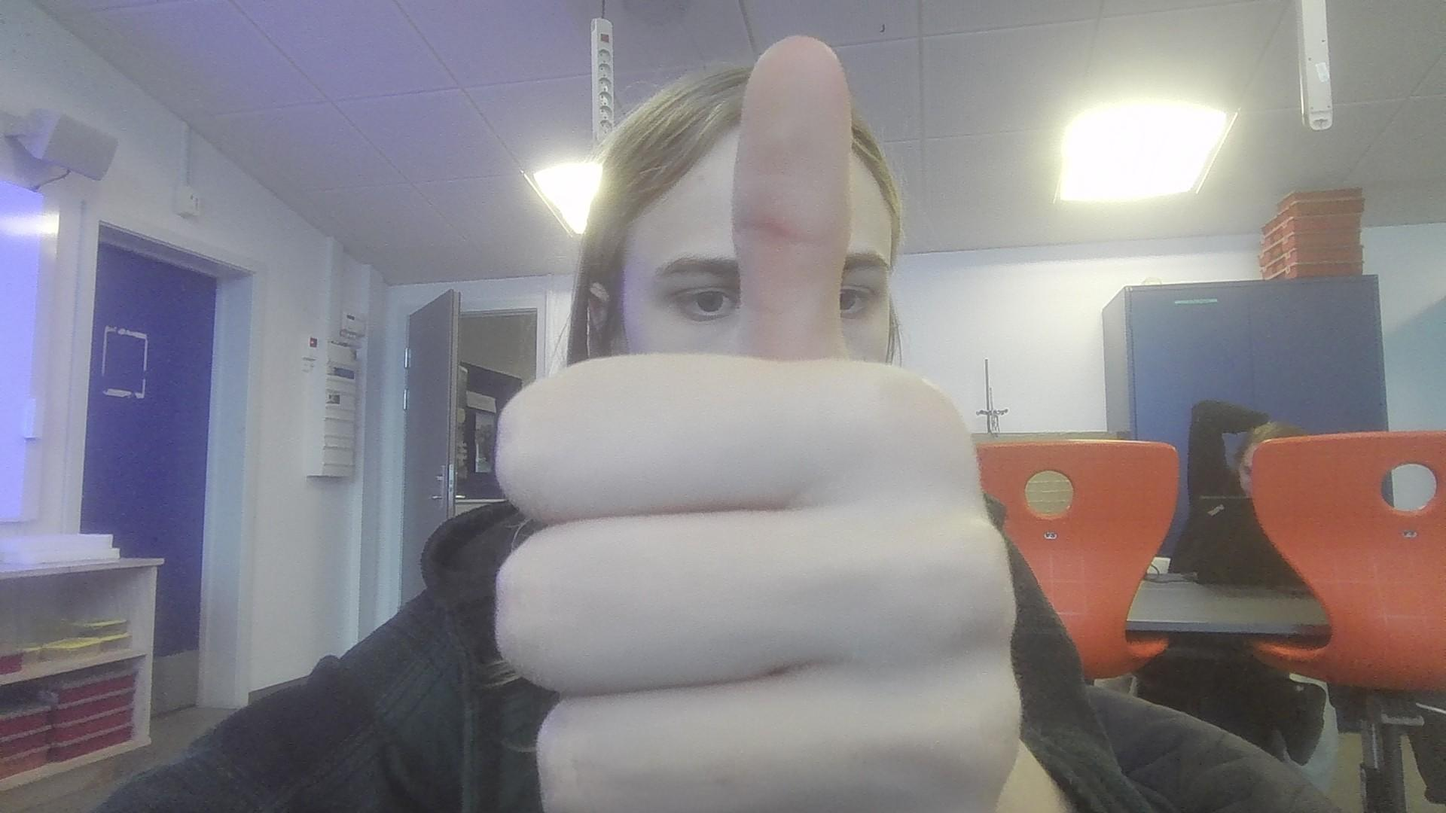thumbs up: (479, 31, 1020, 813)
